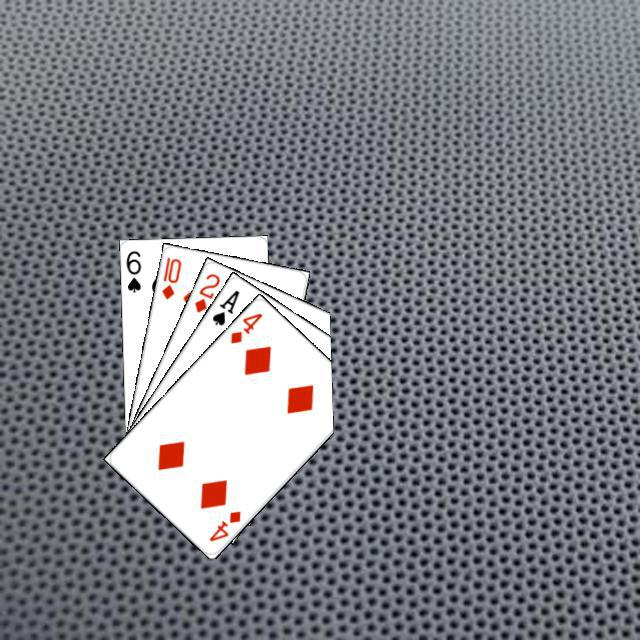10d: (157, 252, 183, 301)
2d: (189, 268, 222, 314)
4d: (204, 505, 243, 543), (225, 308, 264, 345)
6s: (121, 246, 143, 294)
As: (207, 285, 241, 327)
